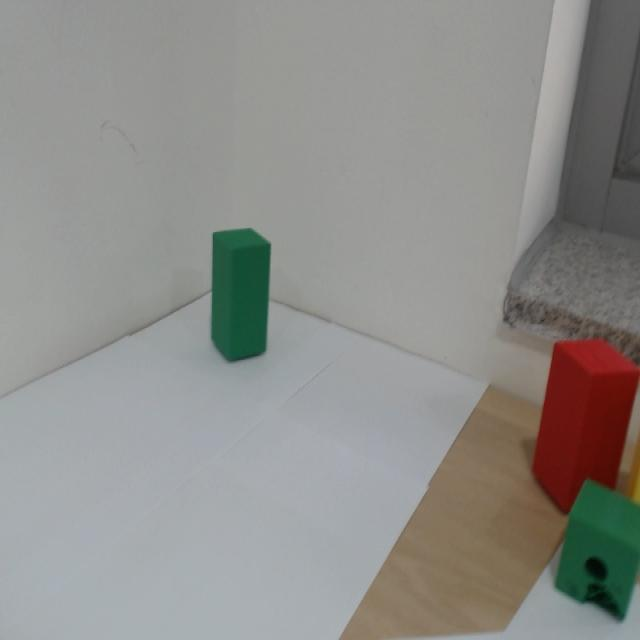cube: (195, 200, 282, 396)
